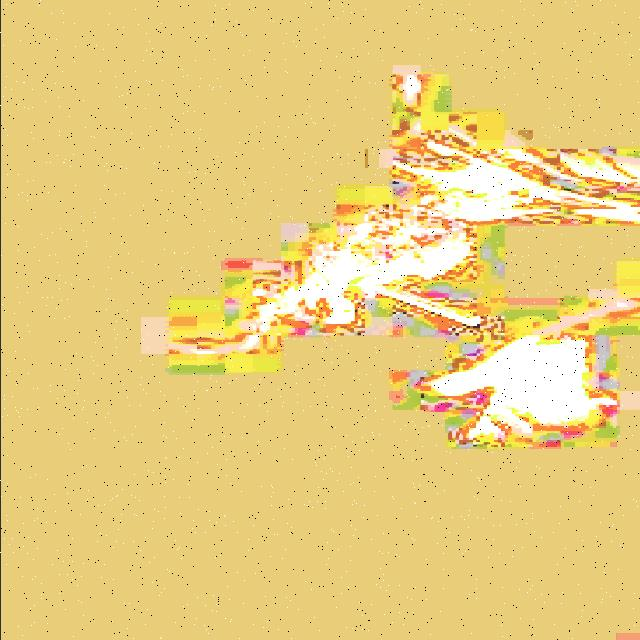api: (501, 348, 561, 395)
